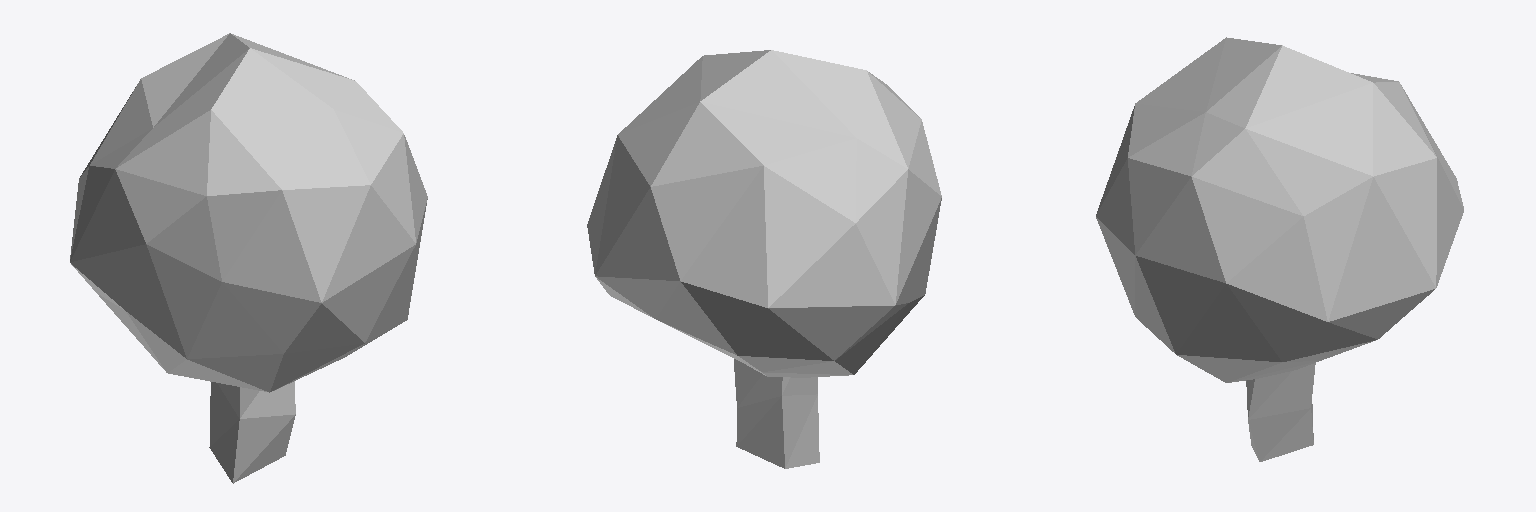
File: tree-top.obj
The picture shows the model from 3 angles: view 1: azimuth 30°, elevation 25°; view 2: azimuth 150°, elevation 25°; view 3: azimuth 270°, elevation 25°; orthographic projection.
Visible parts, largest first — view 1: Icosphere, Cube_Cube.002; view 2: Icosphere, Cube_Cube.002; view 3: Icosphere, Cube_Cube.002.
Boxes of the visible parts, x1,y1,x2,y2 form: Icosphere: [70, 33, 427, 392]; Cube_Cube.002: [209, 381, 295, 483]; Icosphere: [587, 50, 941, 377]; Cube_Cube.002: [734, 359, 819, 468]; Icosphere: [1096, 37, 1463, 382]; Cube_Cube.002: [1246, 363, 1315, 461].
Bounding box in the file's own units: 13.68 × 17.34 × 13.92.